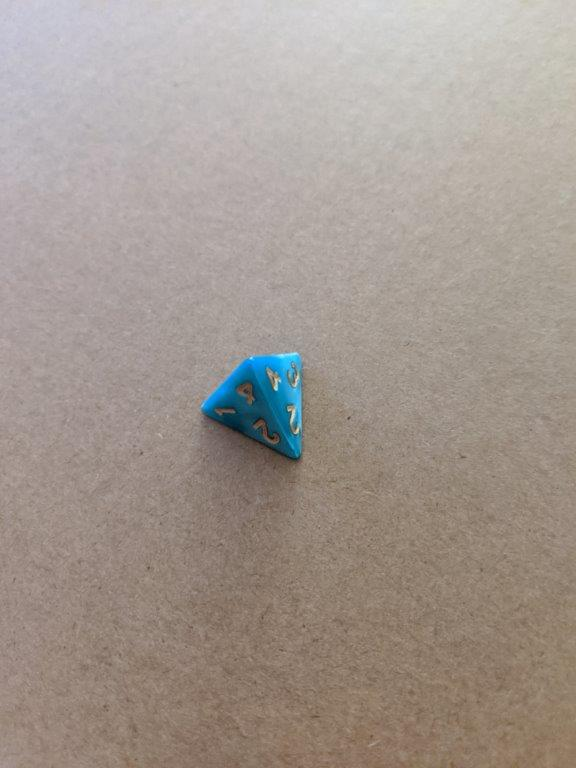d4-4: (197, 349, 303, 459)
